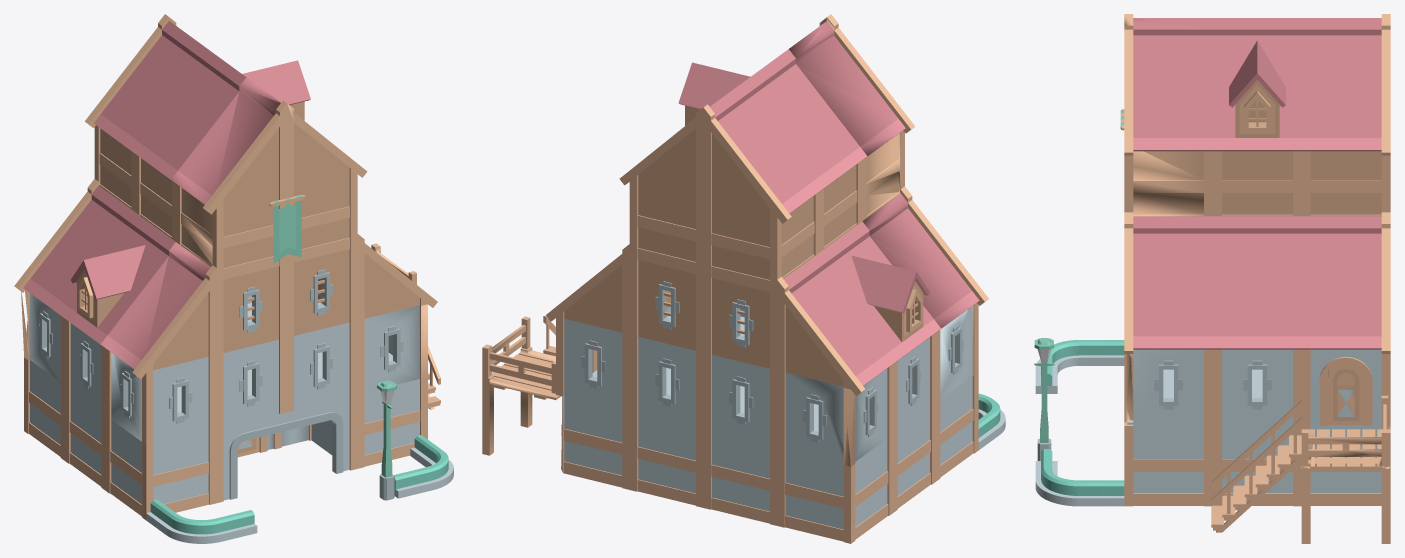
Rendered from Muhtarlık.fbx.
3 views of the same model, side by side, from view 1: azimuth 30°, elevation 25°; view 2: azimuth 150°, elevation 25°; view 3: azimuth 270°, elevation 25° (orthographic). The views are drawn at different scales.
Visible parts, largest first — view 1: roofHighRight, wallWindowStone.009, wallWoodWindowStone.004, hedgeCurved, wallDoor, bannerGreen, lantern; view 2: wallWindowStone.009, roofHighRight, wallWoodWindowStone.004, wallDoor, hedgeCurved; view 3: roofHighRight, wallWindowStone.009, wallWoodWindowStone.004, wallDoor, hedgeCurved, lantern.
Boxes of the visible parts, box(x1,y1,x2,y2) form: roofHighRight: box(14, 14, 437, 378); wallWindowStone.009: box(21, 290, 427, 520); wallWoodWindowStone.004: box(94, 125, 357, 355); hedgeCurved: box(146, 435, 453, 543); wallDoor: box(177, 243, 440, 457); bannerGreen: box(269, 194, 305, 263); lantern: box(377, 380, 396, 500); wallWindowStone.009: box(561, 303, 978, 543); roofHighRight: box(546, 14, 988, 396); wallWoodWindowStone.004: box(629, 130, 904, 371); wallDoor: box(482, 316, 851, 463); hedgeCurved: box(978, 393, 1005, 449); roofHighRight: box(1124, 14, 1390, 353); wallWindowStone.009: box(1124, 349, 1390, 506); wallWoodWindowStone.004: box(1124, 151, 1390, 216); wallDoor: box(1127, 349, 1390, 543); hedgeCurved: box(1035, 340, 1124, 506); lantern: box(1034, 338, 1054, 460).
Bounding box in the file's own units: 514 × 519 × 401.
